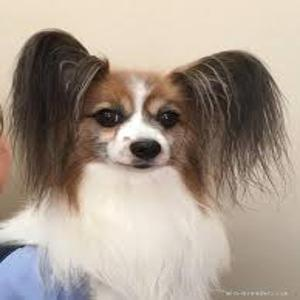yell: (0, 29, 286, 300)
